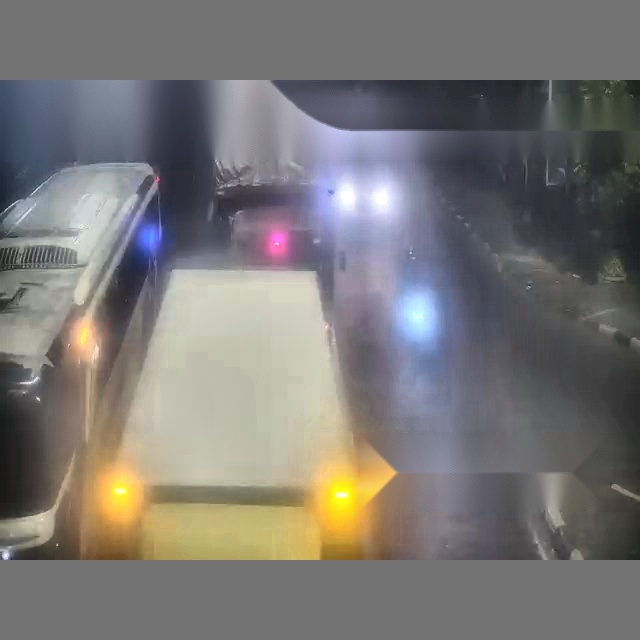Bis: (1, 163, 160, 399)
Truk: (103, 266, 346, 558)
